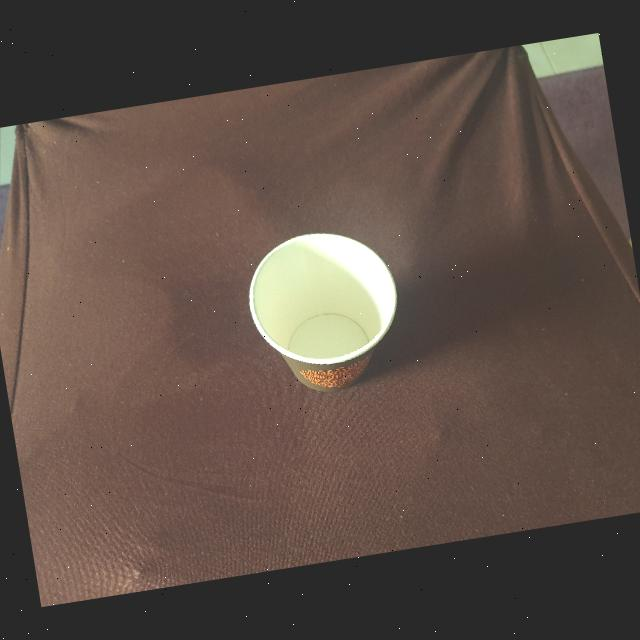trash: (235, 219, 415, 405)
